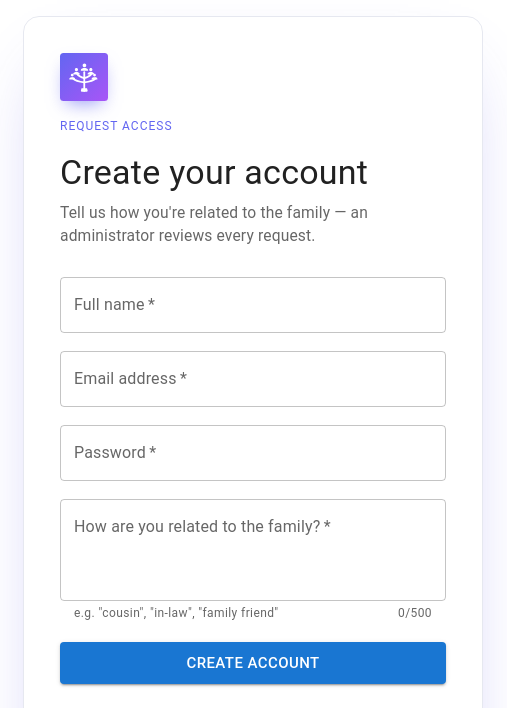
/register public-registration gate (ADMIN-02 / D-07) › Refused submit but server still open -> plain error, no swap (if this passes while the component string-matches the refusal text, the string-match has been rein
Step 1. Type "Ada Lovelace" into the field labelled "Full name" → (253, 305), box [60,277,446,333]
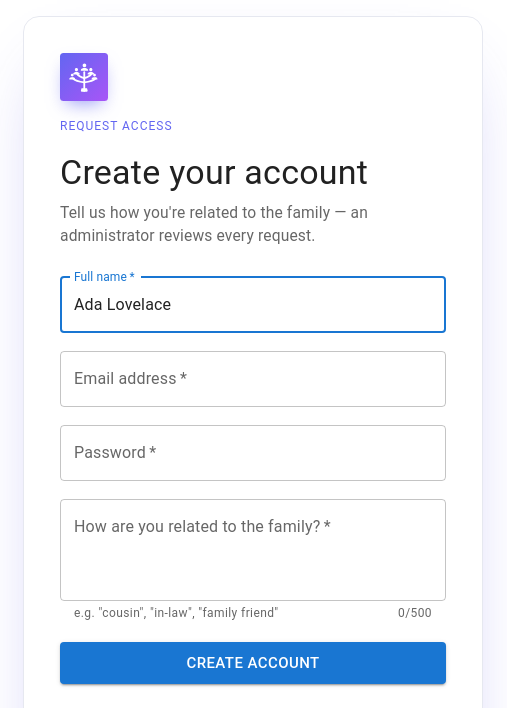
Step 2. Type "ada@example.com" into the field labelled "Email address" → (253, 379), box [60,351,446,407]
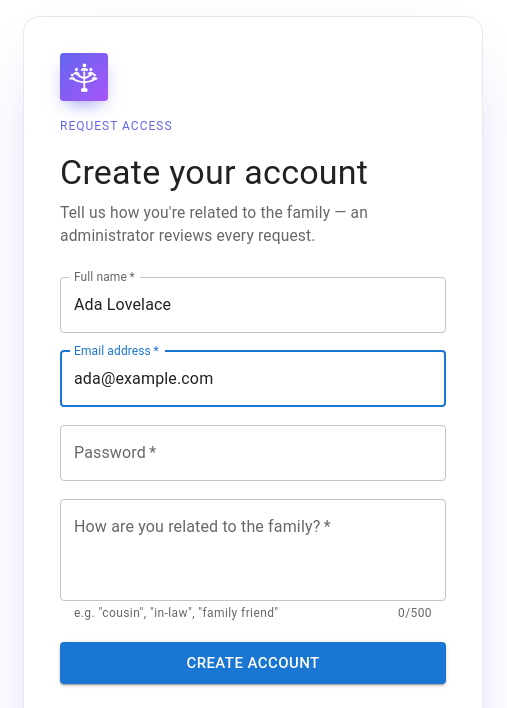
Step 3. Type "secret123" into the password field labelled "Password" → (253, 453), box [60,425,446,481]
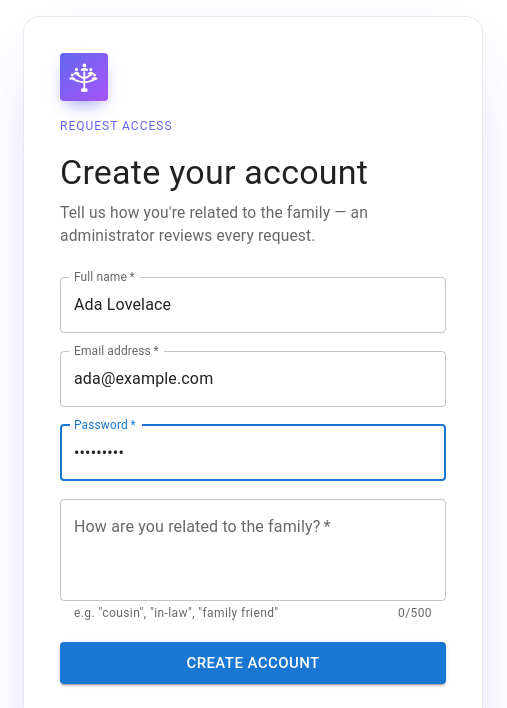
Step 4. Type "cousin" into the text box labelled "How are you related to the family?" → (253, 550), box [74,515,432,584]
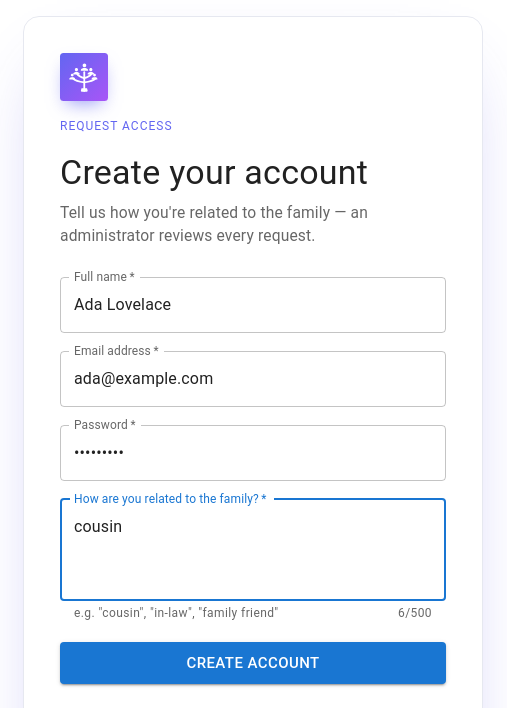
Step 5. Click the button "Create account" → (253, 663), box [60,642,446,684]
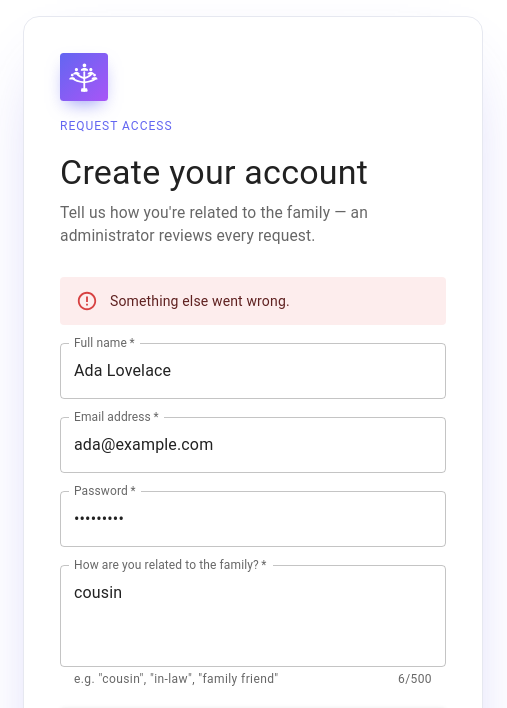
Expected: the message reads "Something else went wrong.", [110,293,290,309]
